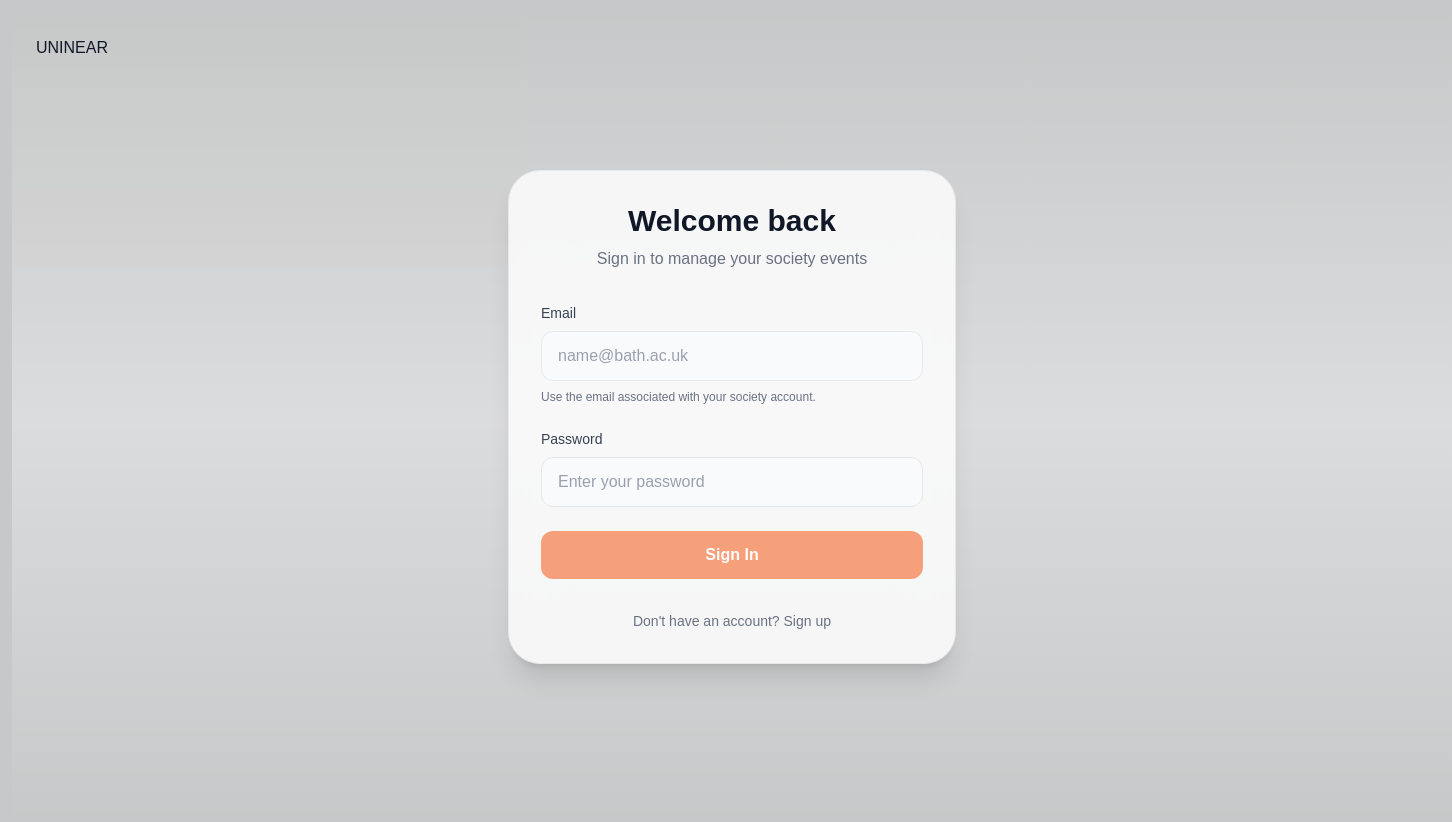
Test case: test_NFR08_user_login - Login Flow › AC2: network error shows "Invalid email or password" and stays on login page
Type "test@bath.ac.uk" into the field labelled "Email". click: x=732, y=356
box: [541,331,923,381]
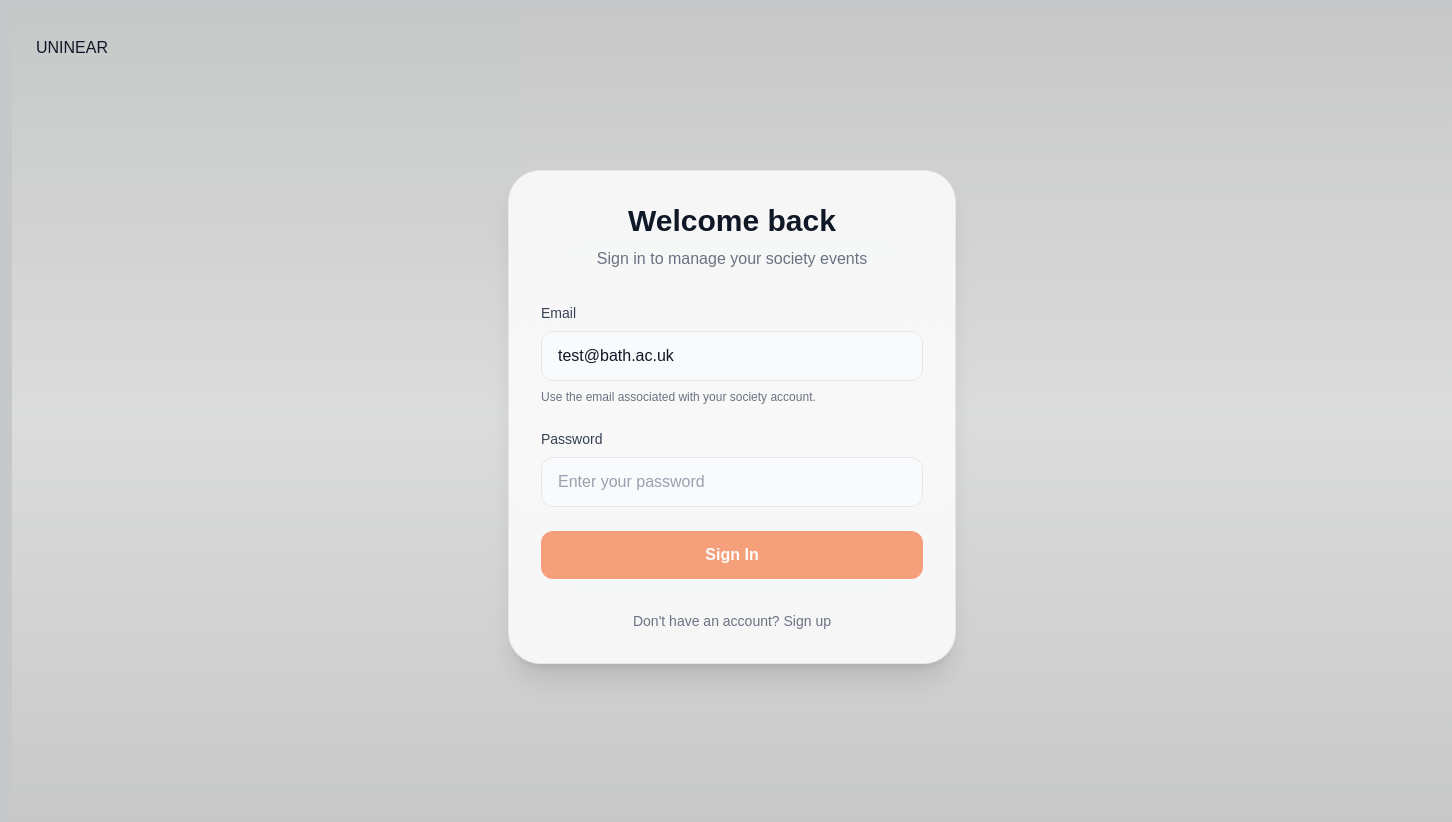
Type "strongpassword" into the password field labelled "Password". click: x=732, y=482
box: [541,457,923,507]
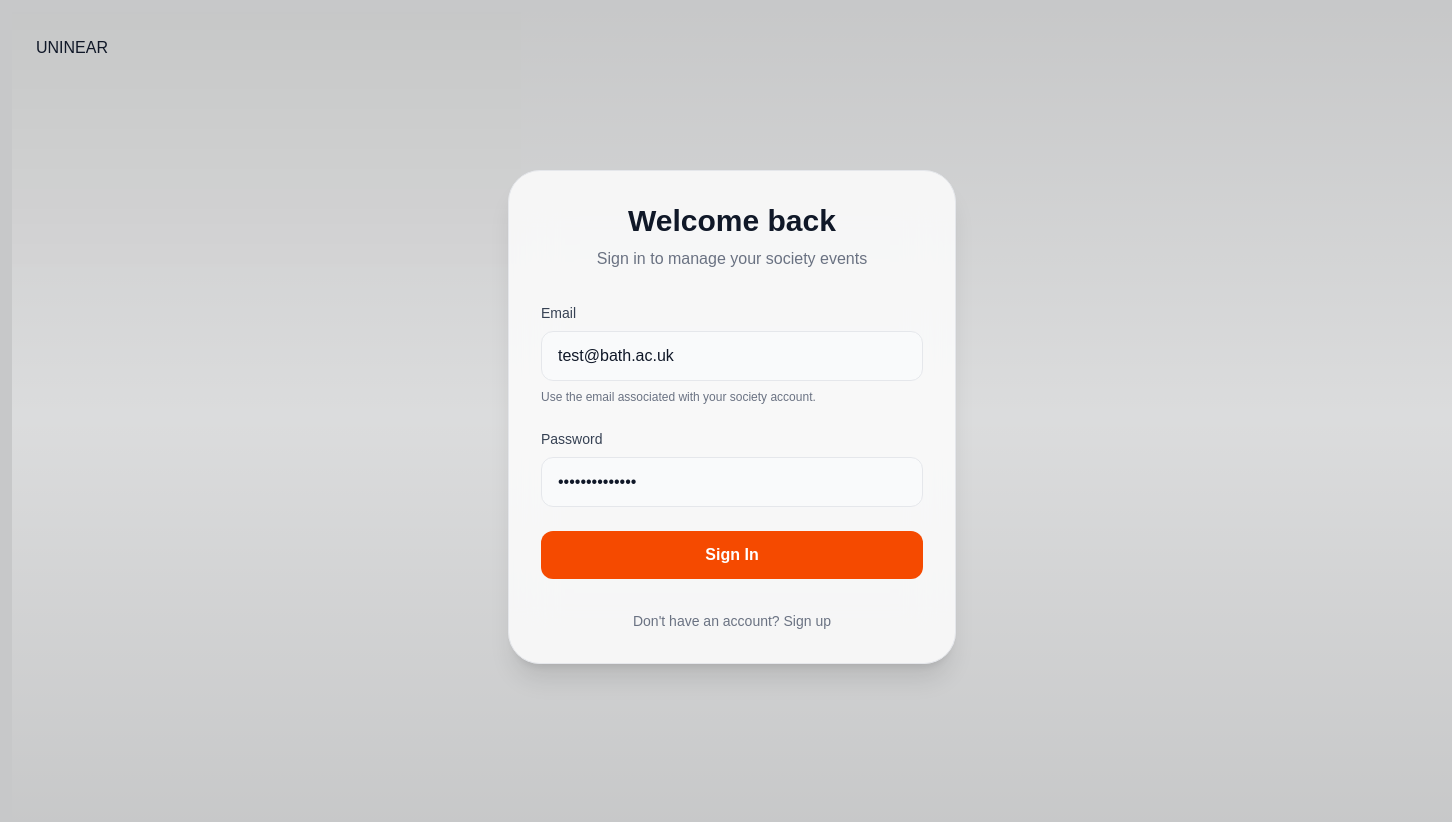
Click the button "Sign In". click: x=732, y=555
box: [541,531,923,579]
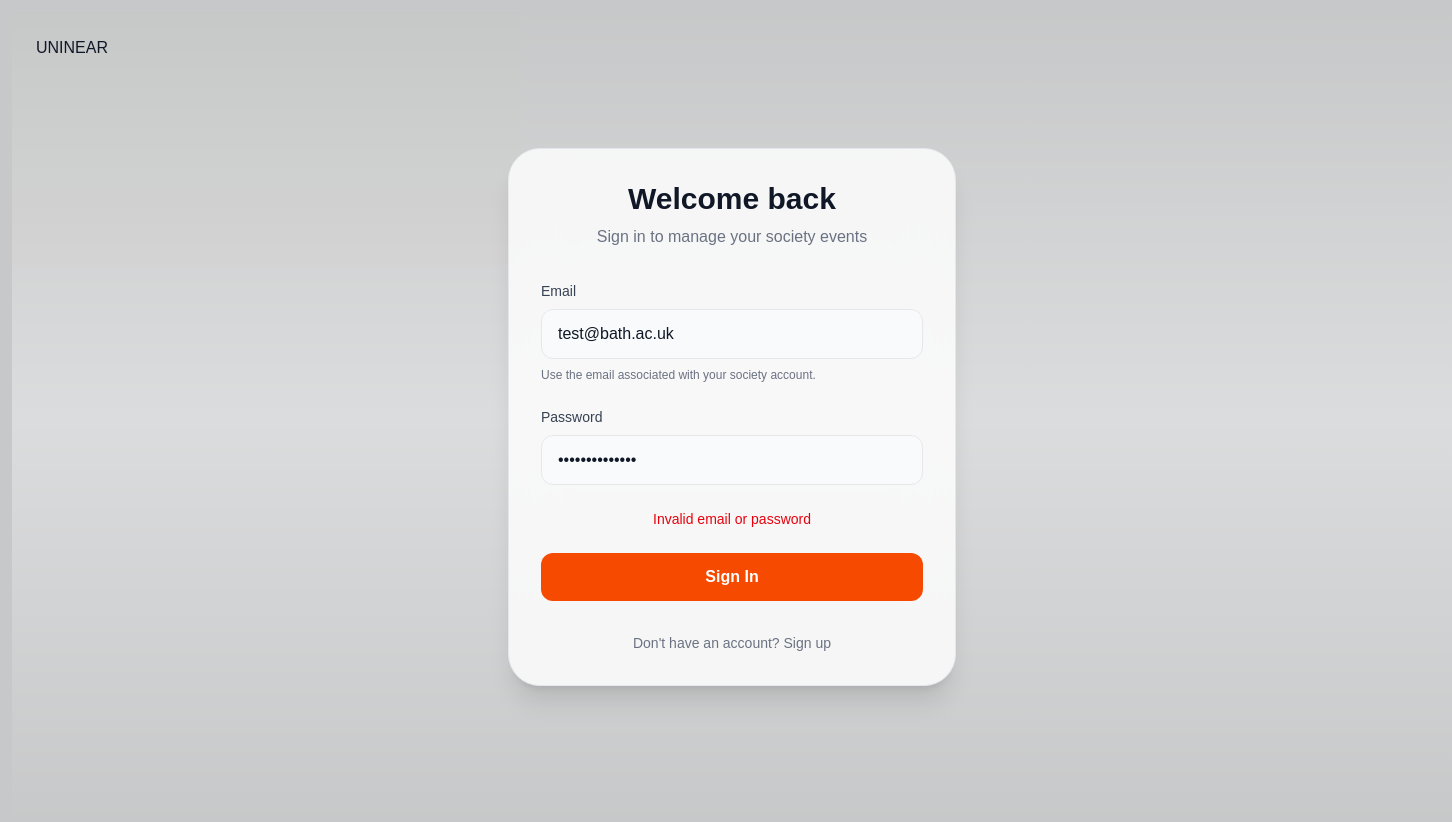
Now the message "Invalid email or password" is shown, box [653,511,811,527]
